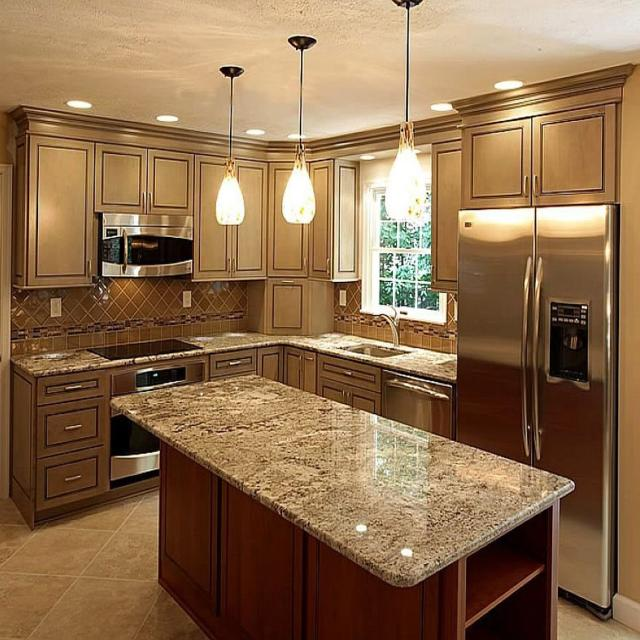Appliance_Fridge: (453, 203, 624, 613)
Appliance_Microwave: (94, 211, 195, 280)
Appliance_Oven: (110, 415, 160, 489), (110, 360, 204, 397)
Appliance_Sink: (342, 345, 408, 358), (380, 309, 400, 347)
Appliance_Stove: (86, 338, 203, 360)
Cabinet_Inset: (34, 138, 336, 283), (437, 101, 620, 285), (207, 344, 381, 414), (36, 369, 112, 513)
Countertop_Marble: (114, 378, 575, 588), (9, 334, 456, 383)
